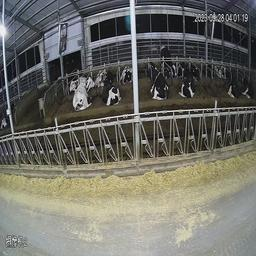cow: (141, 54, 169, 108), (100, 67, 123, 114), (71, 72, 94, 115), (179, 65, 198, 105), (226, 68, 245, 106), (239, 65, 254, 104), (120, 55, 133, 89), (159, 37, 173, 66), (214, 56, 228, 80)
